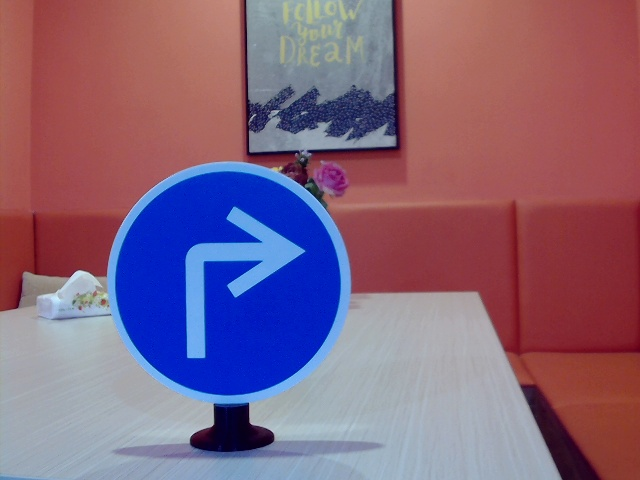turn_right: (172, 204, 300, 357)
